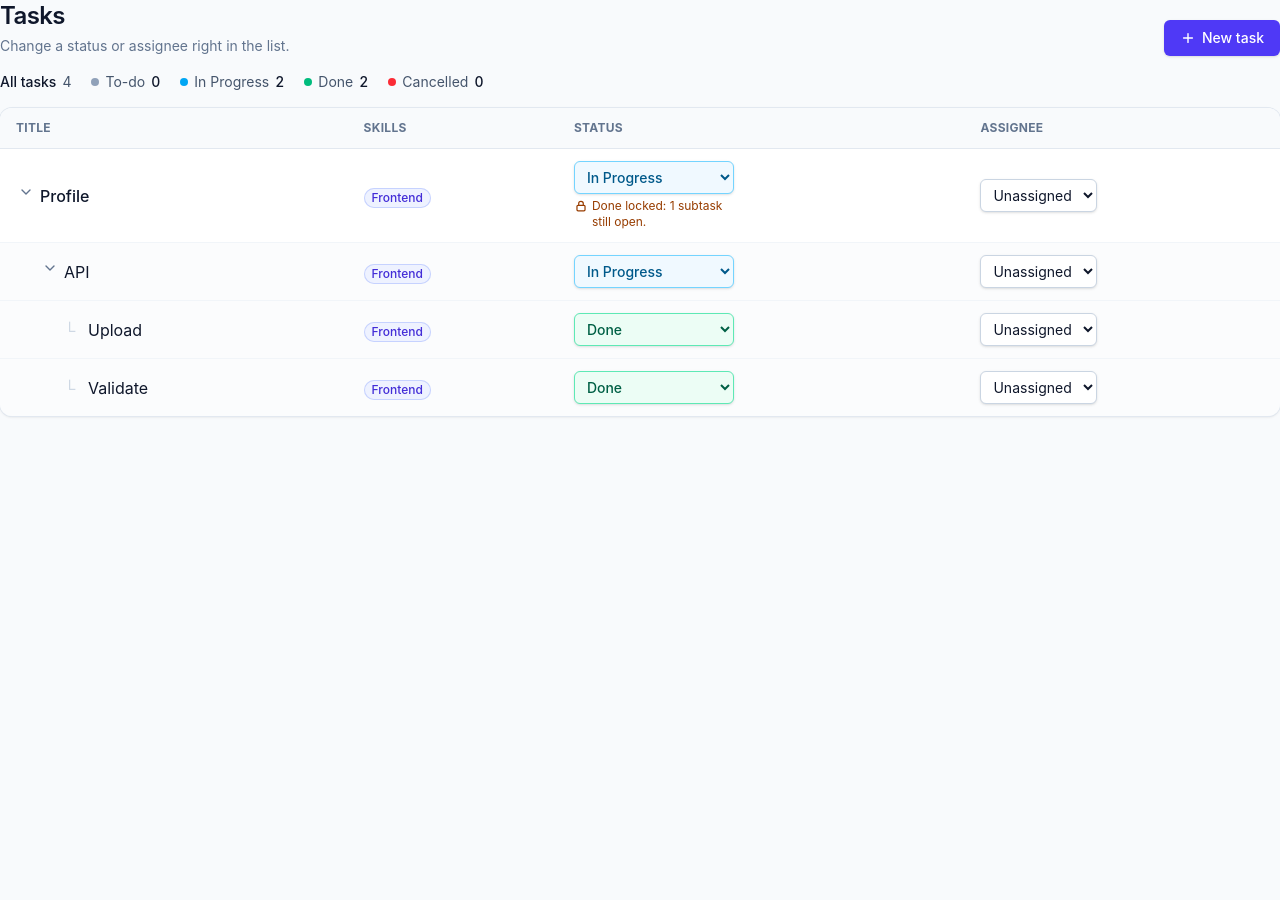
Test: TaskListPage tree › opens the dialog from a 409 when the cached tree was stale
Select "To-do" in the 5th dropdown: (654, 330) [574, 313, 734, 346]
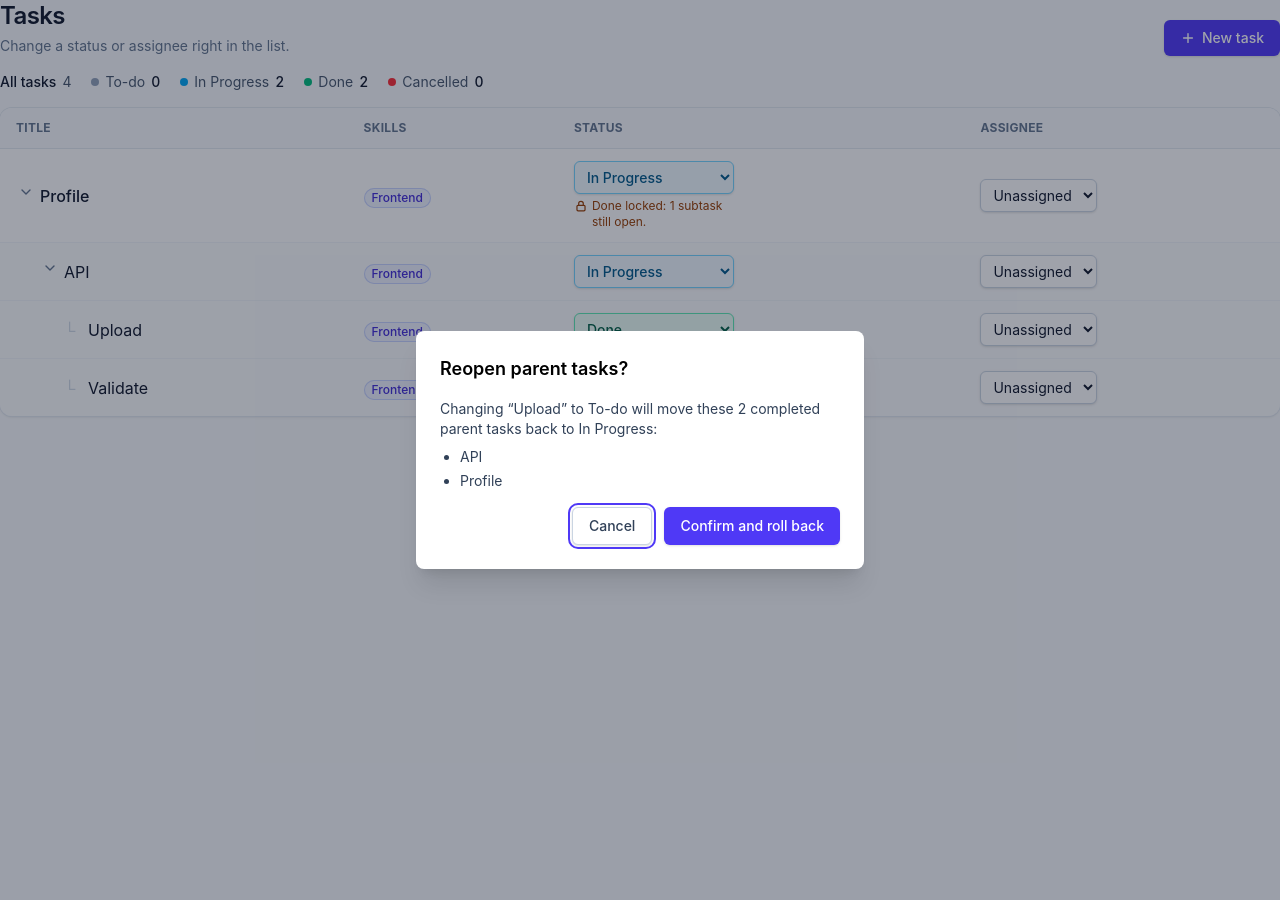
Expected: the list items read "API", "Profile", in this order, [460, 448, 482, 465]; [460, 472, 502, 489]
